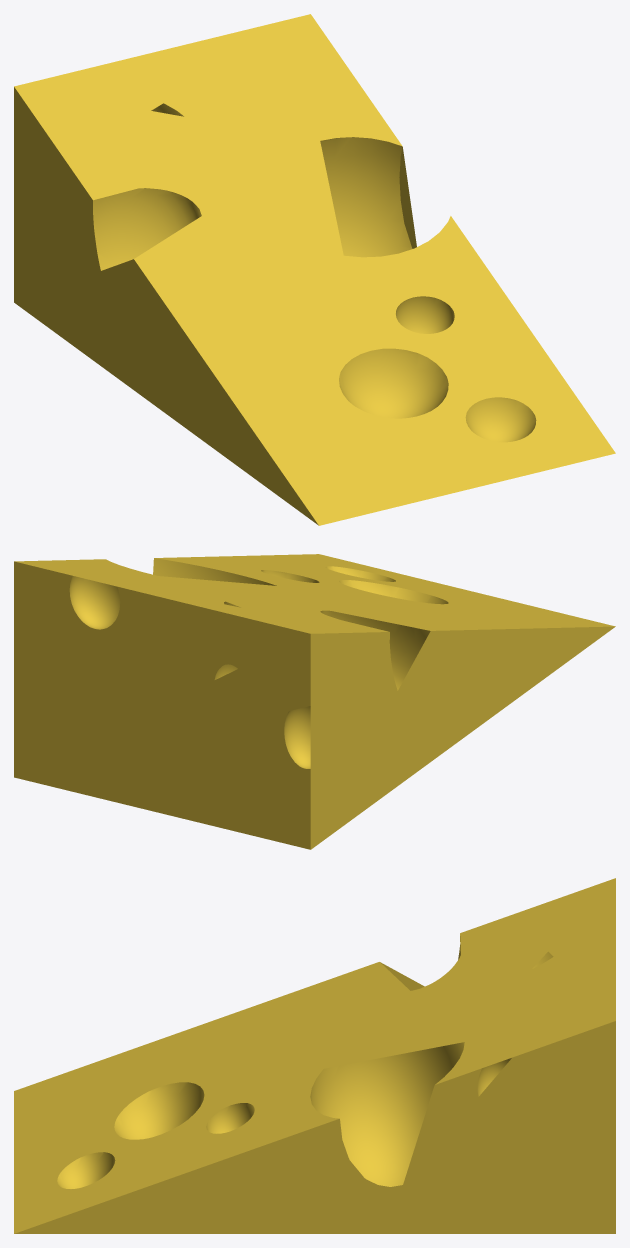
The model's file is Cheese.fbx.
The picture shows the model from 3 angles, top to bottom: view 1: azimuth 30°, elevation 25°; view 2: azimuth 150°, elevation 25°; view 3: azimuth 270°, elevation 25°; orthographic projection.
Visible parts, largest first — view 1: Cheese; view 2: Cheese; view 3: Cheese.
Part boxes in pixels (x1,y1,x2,y2): Cheese: (14,14,615,525); Cheese: (14,554,615,849); Cheese: (14,878,615,1233).
Bounding box in the file's own units: 244 × 170 × 435.
